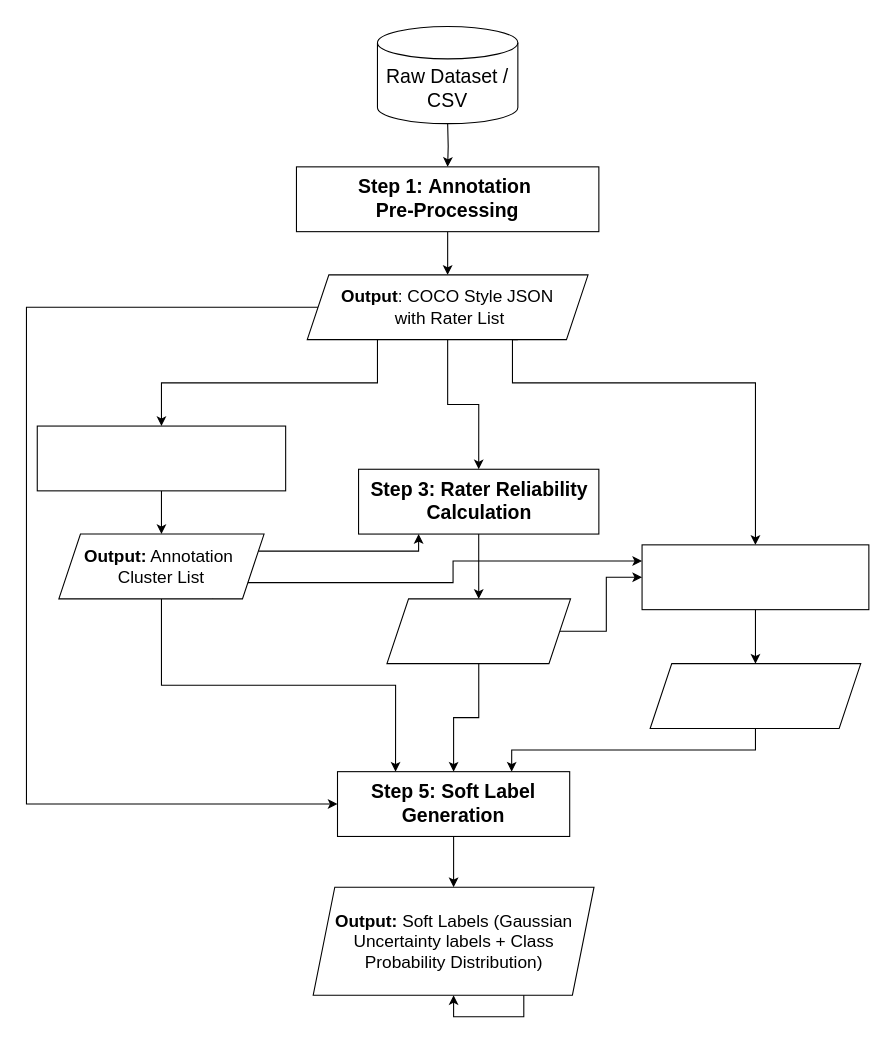
The diagram is 888 pixels wide and 1044 high, and some of its shapes have lost their labels. Each missing label, with the centre of its shape:
"Ouptut: Reliability Factors (Rater Weights)" belongs at point 478,631.
"Output: Class Specific Bayesian Priors" belongs at point 755,695.
"Step 2: Annotation Clustering" belongs at point 161,458.
"Step 4: Class Specific Prior Computation" belongs at point 755,577.
